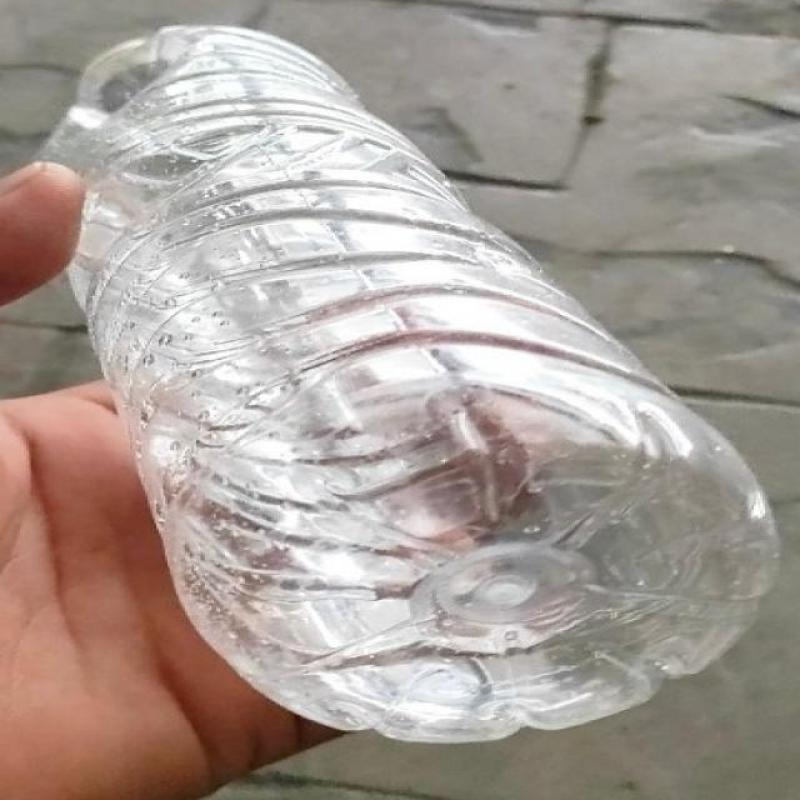botella: (41, 25, 784, 743)
